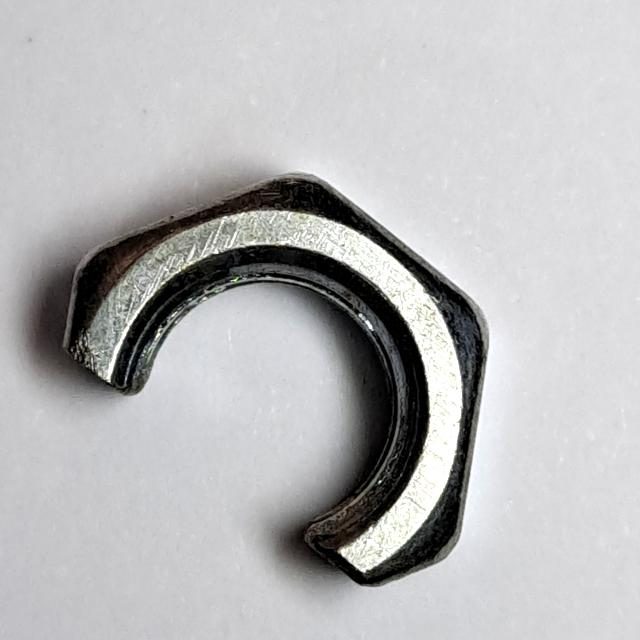Fracture: (51, 147, 503, 604)
